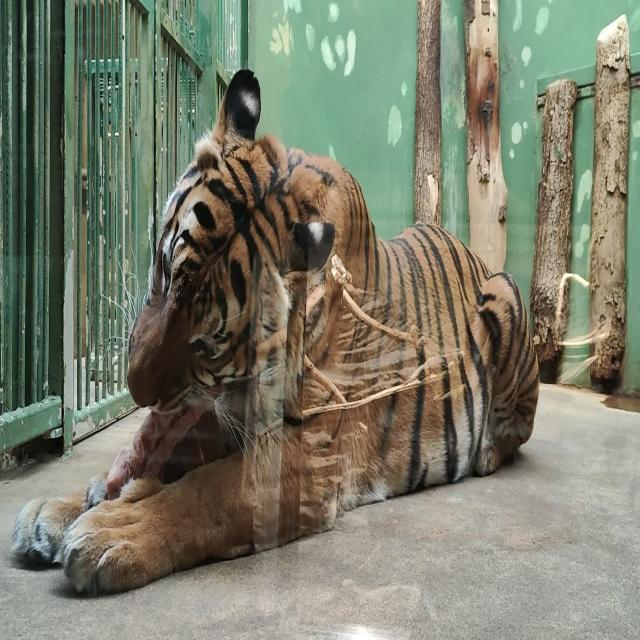tiger: (9, 66, 539, 594)
